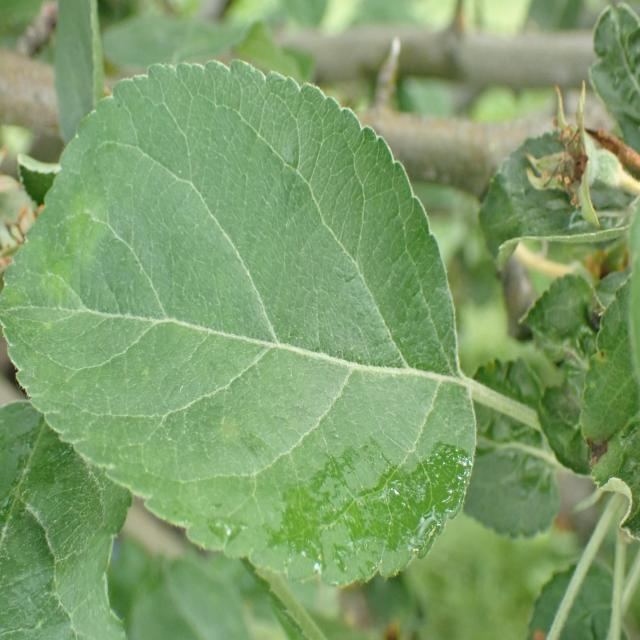scab: (7, 162, 470, 510)
